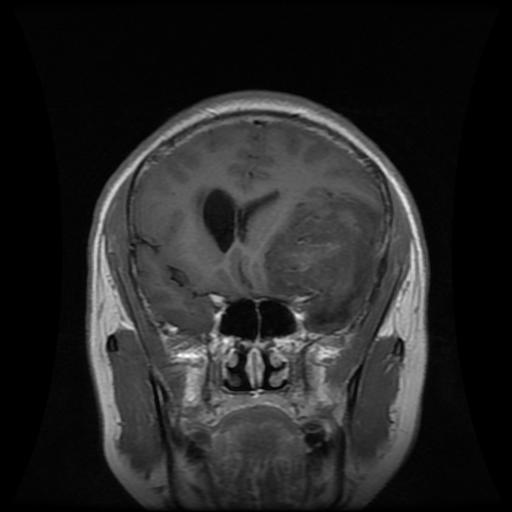Gliomia_tumour: (264, 188, 382, 332)
